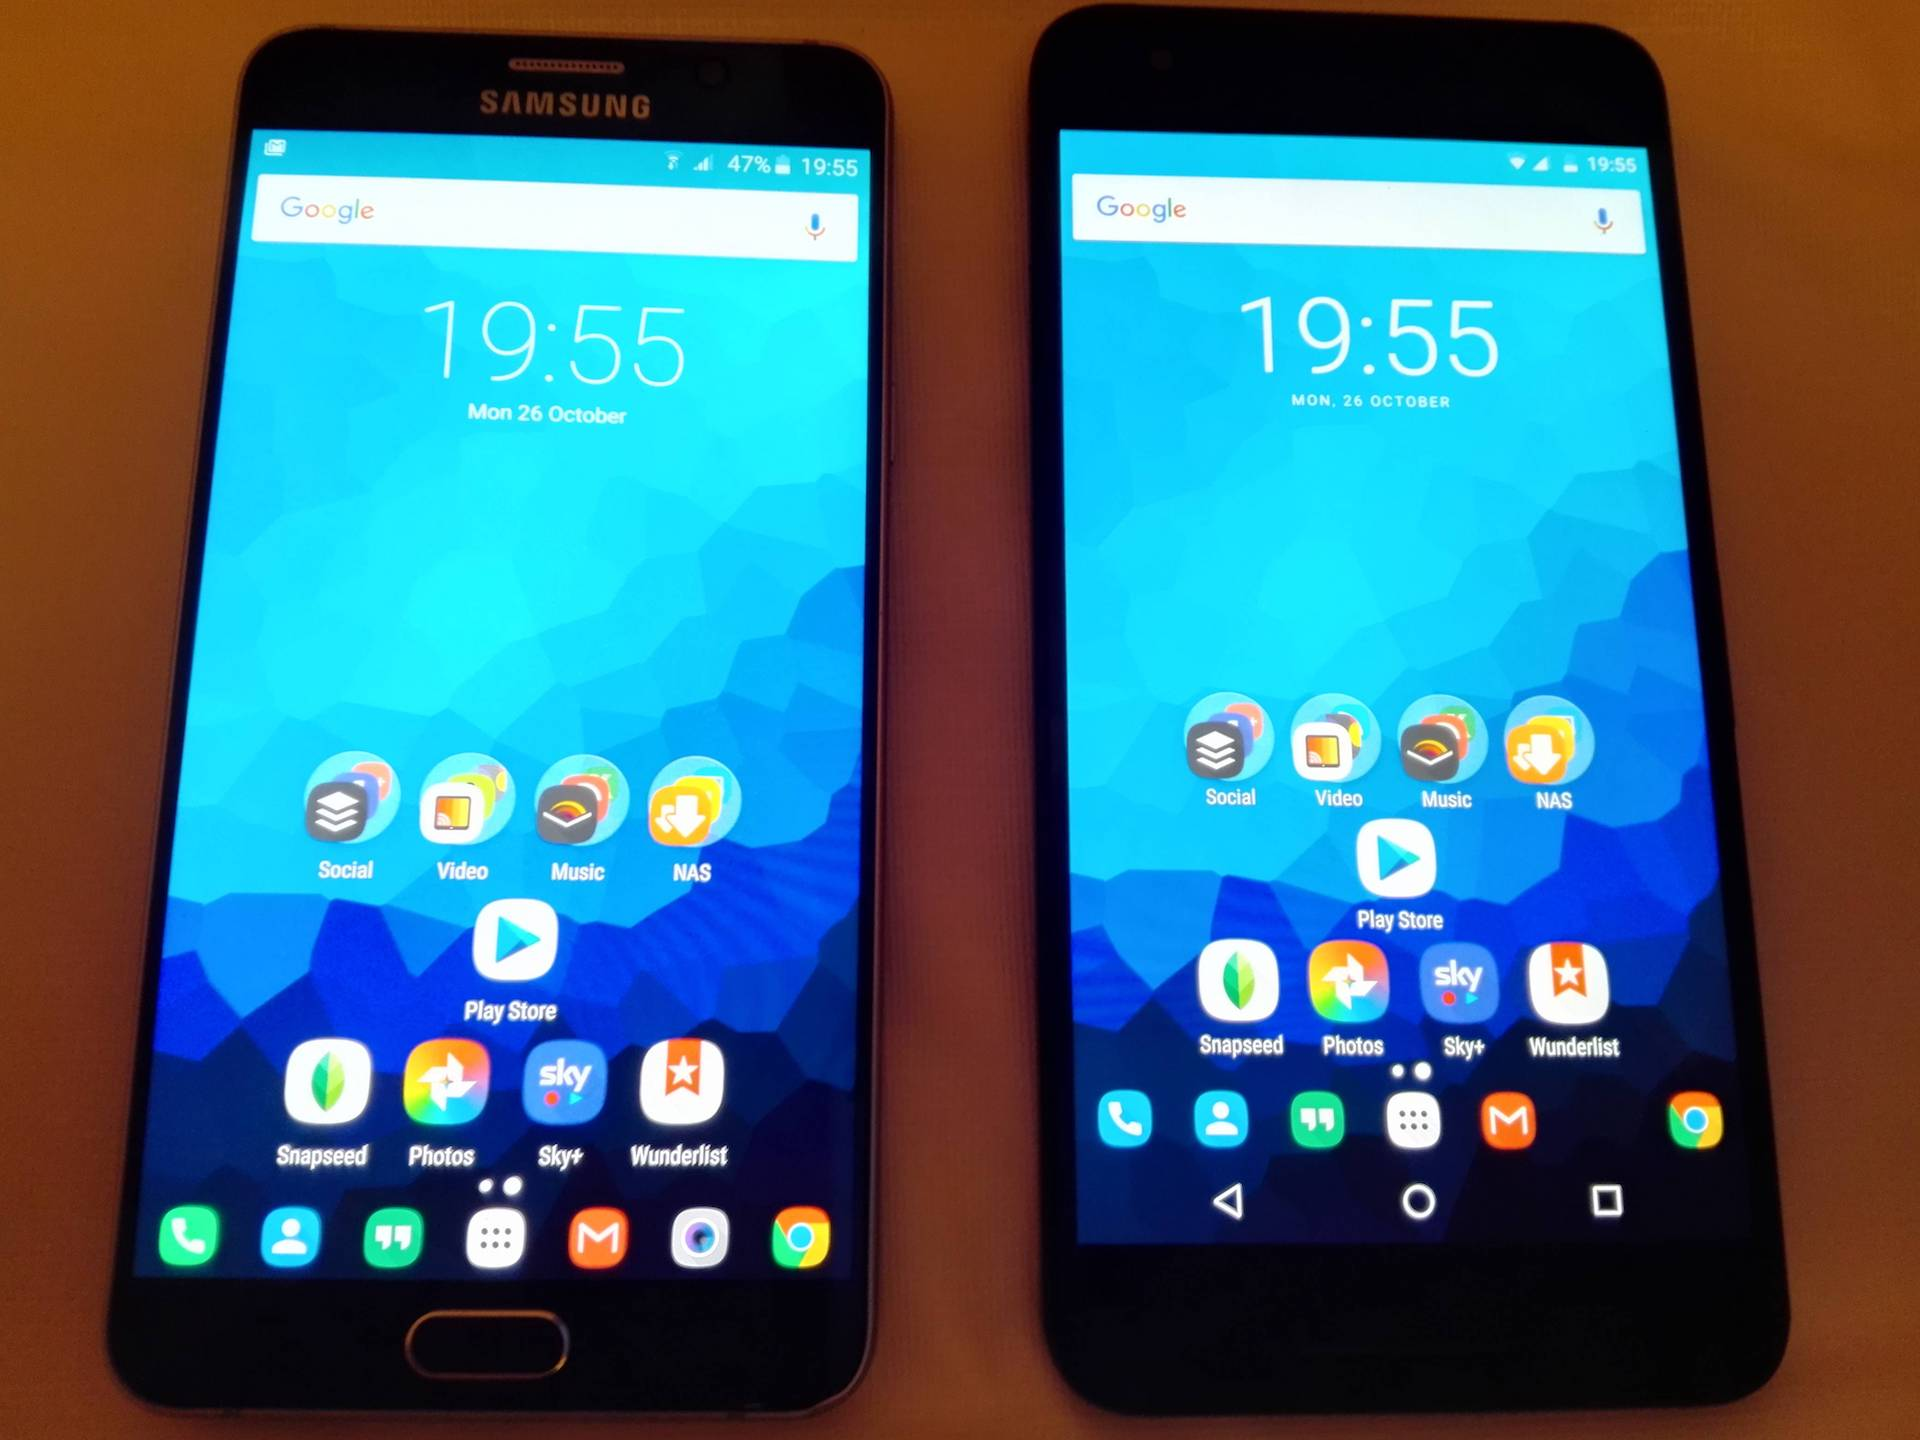smartphone: (104, 23, 897, 1425), (1022, 2, 1799, 1419)
